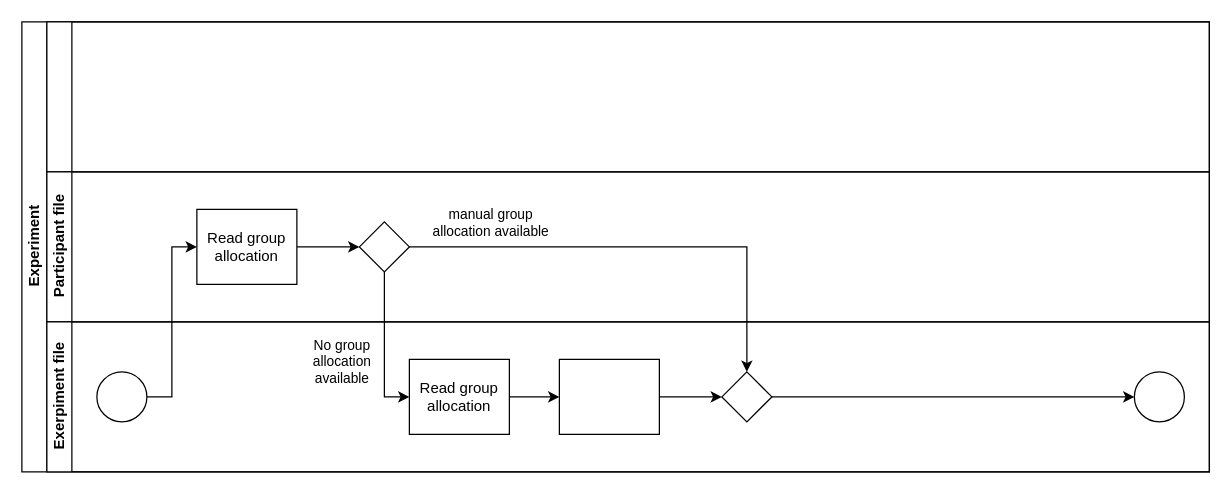
Image size: 1231x494. Some labels were removed from this diagram. The shapes that lost their labels are listed below. From the top down, each one's centre as x and y in pixels, then its label:
the point at 627,96: User
the point at 608,396: Allocate groups
